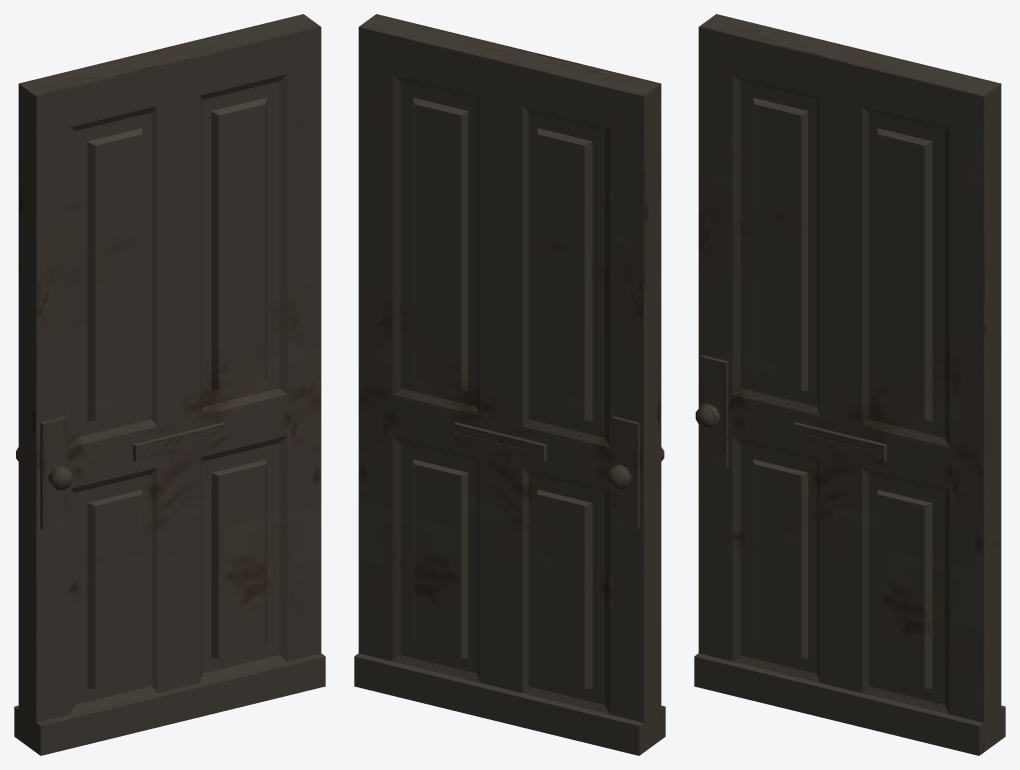
The model's file is Door_1.glb.
3 views of the same model, side by side, from view 1: azimuth 30°, elevation 25°; view 2: azimuth 150°, elevation 25°; view 3: azimuth 330°, elevation 25° (orthographic).
Visible parts, largest first — view 1: Door_1; view 2: Door_1; view 3: Door_1.
Boxes of the visible parts, x1,y1,x2,y2 form: Door_1: [14, 14, 325, 755]; Door_1: [354, 14, 665, 755]; Door_1: [694, 14, 1005, 755].
Bounding box in the file's own units: 1 × 2.2 × 0.2598.
1 material, 1 textured.
